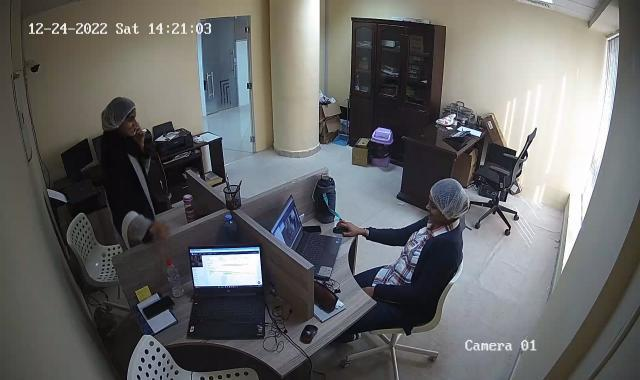hairnet: (425, 176, 469, 228), (100, 97, 137, 137)
